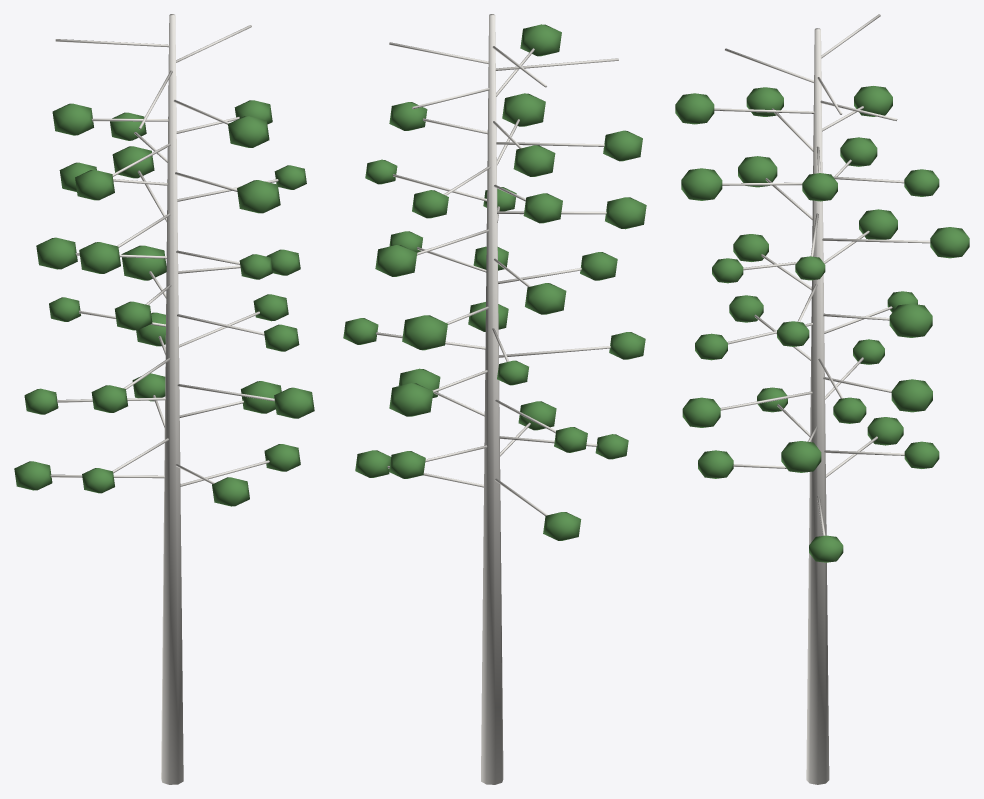
The model's file is birch_silver_slender.glb.
3 views of the same model, side by side, from view 1: azimuth 30°, elevation 25°; view 2: azimuth 150°, elevation 25°; view 3: azimuth 270°, elevation 25° (orthographic).
Visible parts, largest first — view 1: birch_silver_slender; view 2: birch_silver_slender; view 3: birch_silver_slender.
Part boxes in pixels (bbox=[...]): birch_silver_slender: bbox=[14, 14, 314, 784]; birch_silver_slender: bbox=[343, 14, 646, 784]; birch_silver_slender: bbox=[675, 14, 969, 784].
Size of the model in its own units: 4.48 by 13 by 4.62.
